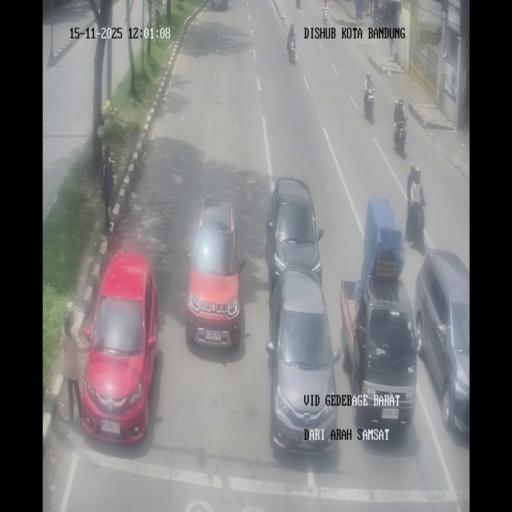car: (81, 251, 159, 444), (266, 267, 339, 457), (341, 274, 418, 434), (414, 252, 469, 440), (264, 175, 324, 299)
truck: (392, 114, 408, 156), (362, 80, 374, 121), (287, 34, 298, 65), (374, 7, 384, 23), (322, 3, 329, 25), (362, 0, 369, 18), (296, 0, 301, 9)
